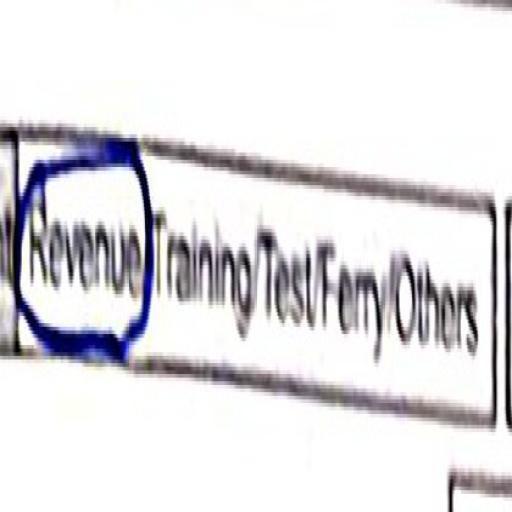check: (12, 90, 157, 432)
